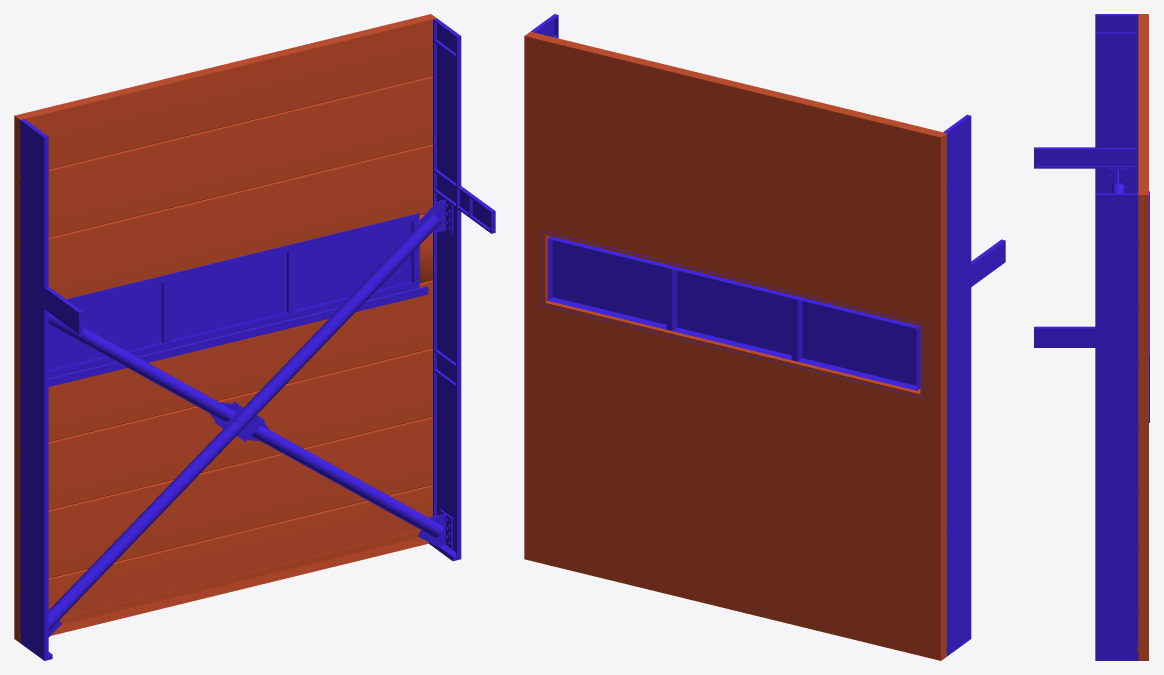
The model's file is Wall_B.glb.
3 views of the same model, side by side, from view 1: azimuth 30°, elevation 25°; view 2: azimuth 150°, elevation 25°; view 3: azimuth 270°, elevation 25° (orthographic). The views are drawn at different scales.
Visible parts, largest first — view 1: Wall_B; view 2: Wall_B; view 3: Wall_B.
Boxes of the visible parts, x1=… form: Wall_B: x1=14, y1=14, x2=495, y2=660; Wall_B: x1=524, y1=14, x2=1005, y2=660; Wall_B: x1=1034, y1=14, x2=1149, y2=660.
Size of the model in its own units: 10 by 12 by 2.7.
